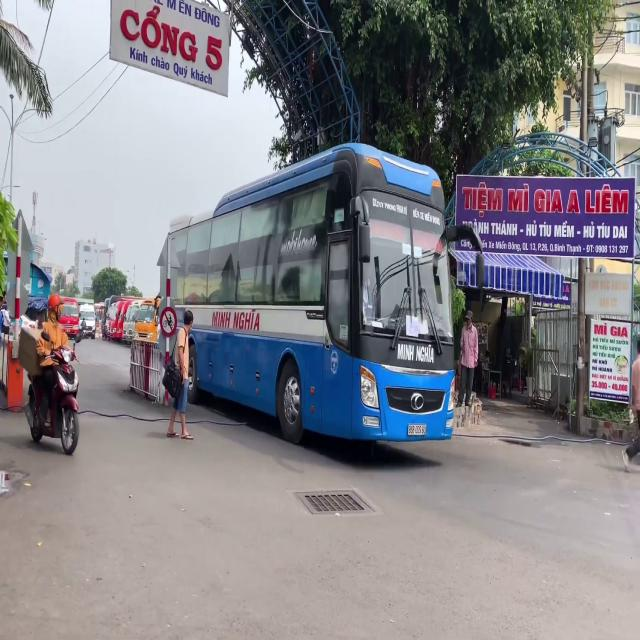bien_trang: (408, 425, 427, 436)
